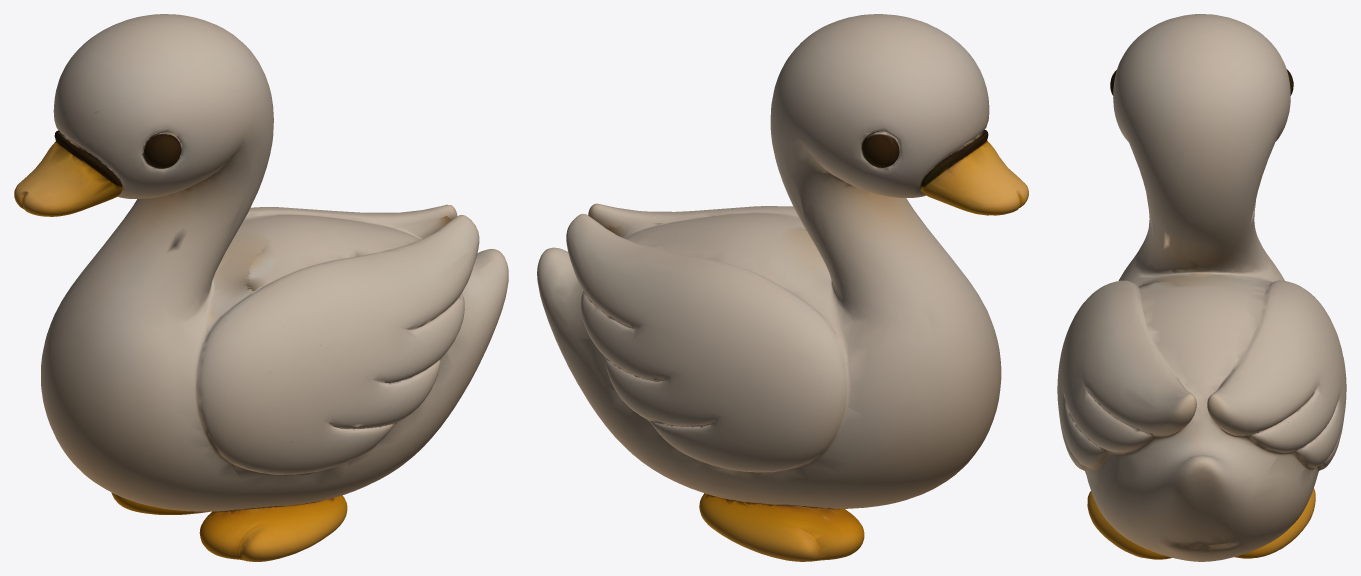
File: pato.glb
3 renders of one model, left to right at view 1: azimuth 30°, elevation 25°; view 2: azimuth 150°, elevation 25°; view 3: azimuth 270°, elevation 25°, orthographic. The views are drawn at different scales.
Parts seen in each view (by area): view 1: texture_pbr_v128; view 2: texture_pbr_v128; view 3: texture_pbr_v128.
Boxes of the visible parts, x1,y1,x2,y2 form: texture_pbr_v128: (14, 14, 508, 561); texture_pbr_v128: (537, 14, 1028, 561); texture_pbr_v128: (1057, 14, 1346, 561).
Bounding box in the file's own units: 1.05 × 1.06 × 0.5924.
1 material, 1 textured.
